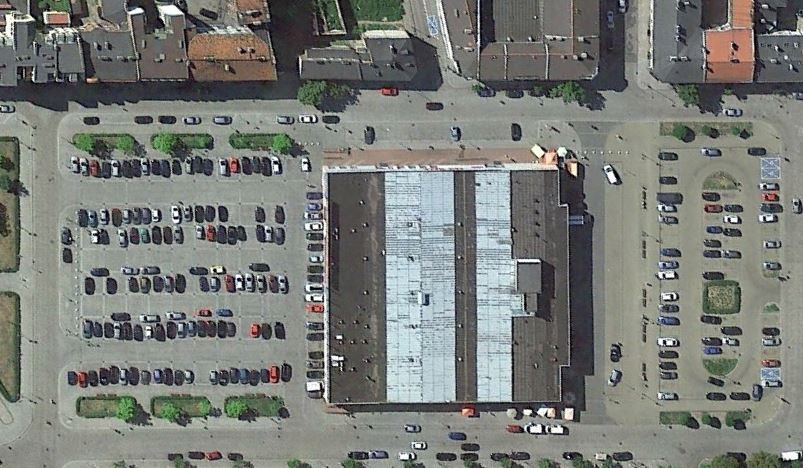block of flats: (1, 1, 288, 91), (430, 1, 606, 87), (648, 1, 803, 84), (292, 26, 426, 86)
shopping_center: (311, 159, 574, 409)
